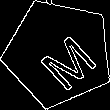M_NW: (25, 19, 93, 87)
